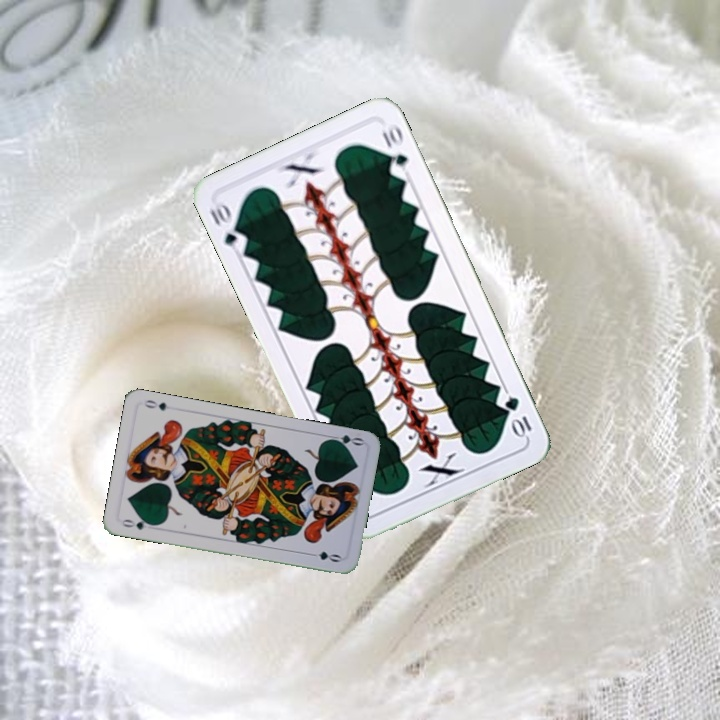G10: (205, 198, 250, 256), (501, 392, 534, 440)
GO: (324, 431, 365, 450), (117, 515, 158, 532)
